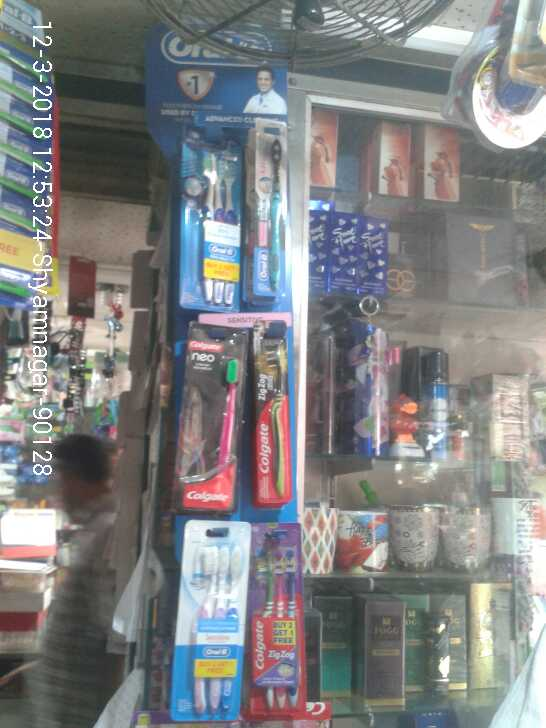oralb: (174, 520, 241, 726), (178, 124, 245, 312), (252, 116, 294, 302)
